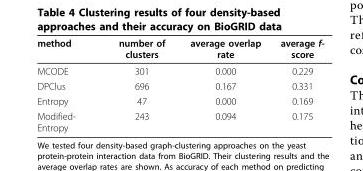table: (36, 36, 323, 132)
table column: (176, 36, 269, 132), (96, 36, 176, 132), (36, 36, 96, 132), (269, 36, 323, 132)
table column header: (36, 36, 323, 62)
table row: (36, 36, 323, 62), (36, 108, 323, 132), (36, 62, 323, 78), (36, 78, 323, 93), (36, 93, 323, 108)
